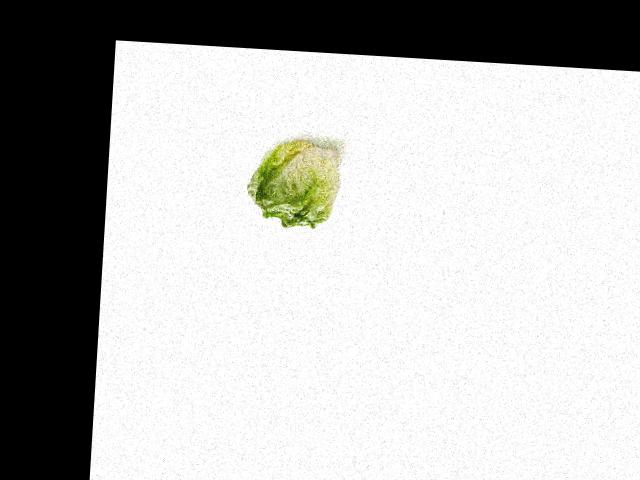lettuce: (240, 139, 349, 234)
